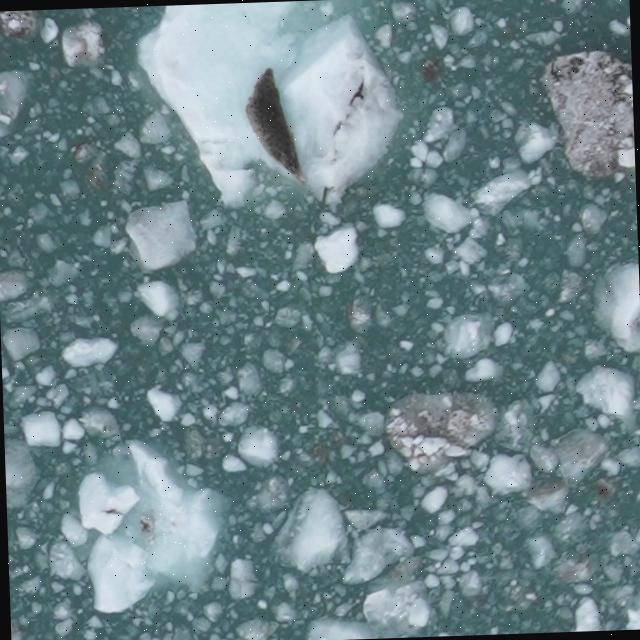seal: (239, 64, 307, 187)
